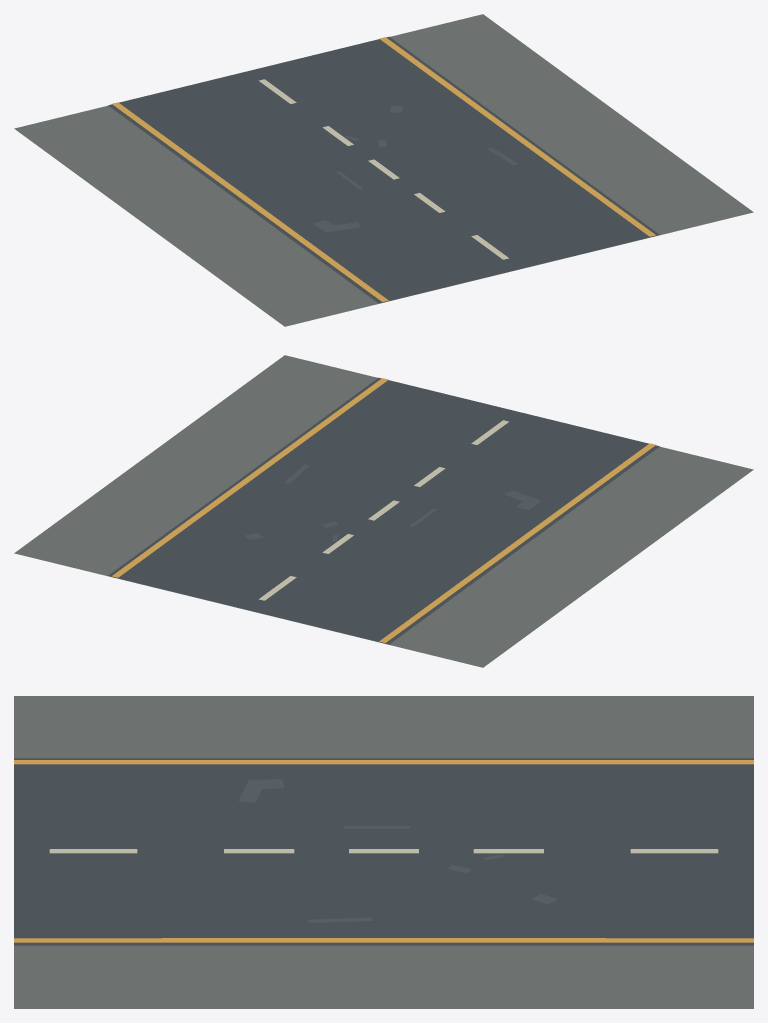
The model's file is 04_Asphalt_Straight.fbx.
The picture shows the model from 3 angles, top to bottom: view 1: azimuth 30°, elevation 25°; view 2: azimuth 150°, elevation 25°; view 3: azimuth 270°, elevation 25°; orthographic projection. The views are drawn at different scales.
Visible parts, largest first — view 1: 04_Asphalt_Straight; view 2: 04_Asphalt_Straight; view 3: 04_Asphalt_Straight.
Part boxes in pixels (left/top/right/bottom): 04_Asphalt_Straight: left=14, top=14, right=753, bottom=326; 04_Asphalt_Straight: left=14, top=355, right=753, bottom=667; 04_Asphalt_Straight: left=14, top=696, right=753, bottom=1008.
Bounding box in the file's own units: 800 × 1.6 × 800.
1 material, 1 textured.
